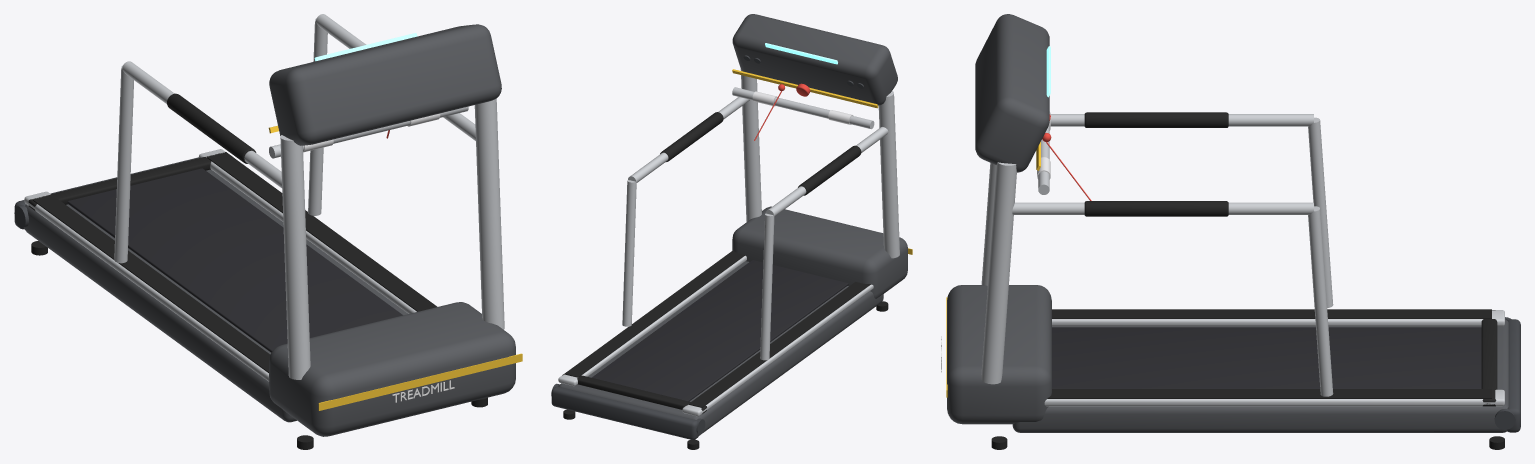
Rendered from Treadmill.fbx.
3 renders of one model, left to right at view 1: azimuth 30°, elevation 25°; view 2: azimuth 150°, elevation 25°; view 3: azimuth 270°, elevation 25°, orthographic. The views are drawn at different scales.
Parts seen in each view (by area): view 1: Belt, Motor_Hood, Console, Deck_Frame, Upright_L, Upright_R, Side_Rail_Tread_L, Side_Rail_Tread_R, Handrail_Rear_Drop_L, Side_Rail_L, Side_Rail_R, Step_Up_Plate (+6 smaller); view 2: Belt, Console, Motor_Hood, Deck_Frame, Rear_Cap, Upright_L, Side_Rail_Tread_R, Side_Rail_Tread_L, Upright_R, Handrail_Rear_Drop_L, Handrail_Rear_Drop_R, Side_Rail_L (+8 smaller); view 3: Belt, Deck_Frame, Motor_Hood, Console, Upright_R, Side_Rail_Tread_R, Side_Rail_Tread_L, Side_Rail_R, Side_Rail_L, Handrail_Rear_Drop_R, Handrail_Grip_R, Handrail_Grip_L (+6 smaller).
Part boxes in pixels (x1,y1,x2,y2): Belt: [67, 168, 402, 352]; Motor_Hood: [269, 302, 515, 436]; Console: [269, 24, 501, 145]; Deck_Frame: [24, 169, 407, 422]; Upright_L: [280, 135, 310, 379]; Upright_R: [474, 98, 504, 329]; Side_Rail_Tread_L: [33, 195, 270, 372]; Side_Rail_Tread_R: [207, 152, 437, 311]; Handrail_Rear_Drop_L: [114, 65, 133, 263]; Side_Rail_L: [24, 191, 269, 381]; Side_Rail_R: [198, 149, 416, 313]; Step_Up_Plate: [28, 152, 226, 211]; Belt: [592, 260, 848, 401]; Console: [732, 14, 897, 105]; Motor_Hood: [732, 206, 907, 298]; Deck_Frame: [559, 261, 883, 435]; Rear_Cap: [551, 386, 698, 439]; Upright_L: [878, 91, 899, 258]; Side_Rail_Tread_R: [564, 250, 745, 377]; Side_Rail_Tread_L: [688, 281, 870, 407]; Upright_R: [740, 68, 761, 221]; Handrail_Rear_Drop_L: [760, 213, 774, 360]; Handrail_Rear_Drop_R: [622, 180, 636, 326]; Side_Rail_L: [682, 284, 873, 416]; Belt: [1052, 327, 1481, 388]; Deck_Frame: [1012, 319, 1508, 432]; Motor_Hood: [947, 285, 1051, 424]; Console: [975, 14, 1049, 172]; Upright_R: [981, 162, 1016, 384]; Side_Rail_Tread_R: [1047, 389, 1491, 398]; Side_Rail_Tread_L: [1052, 309, 1491, 318]; Side_Rail_R: [1044, 389, 1504, 406]; Side_Rail_L: [1052, 310, 1504, 326]; Handrail_Rear_Drop_R: [1308, 206, 1333, 396]; Handrail_Grip_R: [1084, 201, 1228, 216]; Handrail_Grip_L: [1084, 112, 1228, 127].
Size of the model in its own units: 0.88 by 1.48 by 2.21.
